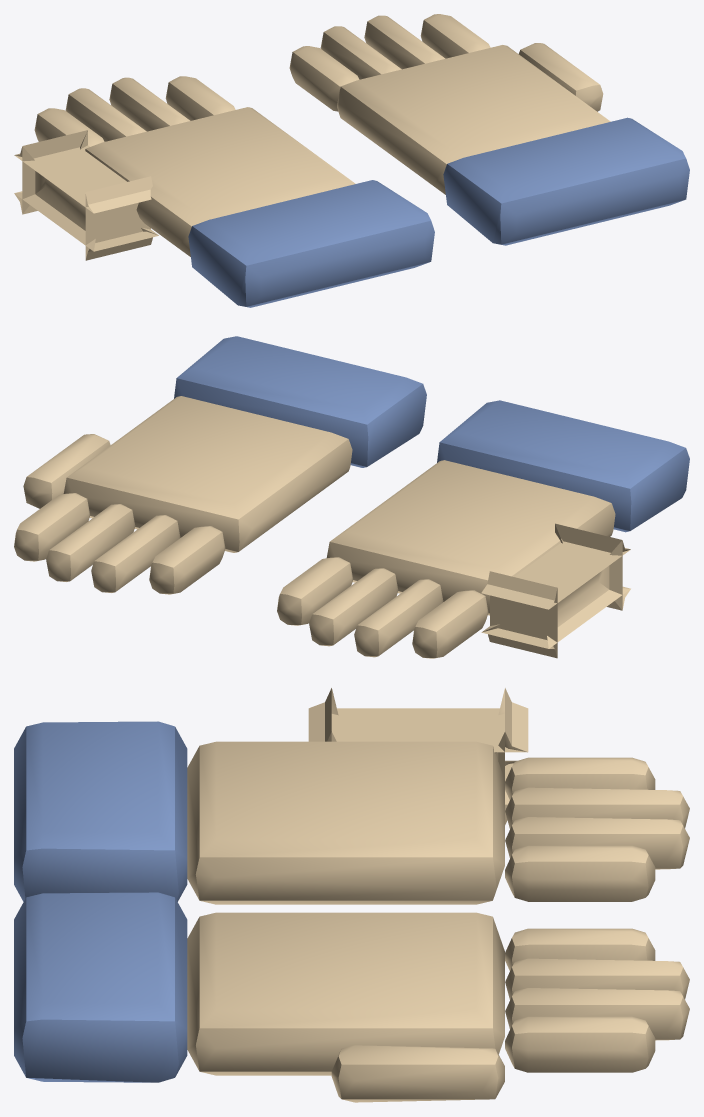
The model's file is SER-EPI-003_lod1.glb.
The picture shows the model from 3 angles, top to bottom: view 1: azimuth 30°, elevation 25°; view 2: azimuth 150°, elevation 25°; view 3: azimuth 270°, elevation 25°; orthographic projection. The views are drawn at different scales.
Visible parts, largest first — view 1: SER-EPI-003_punho1, SER-EPI-003_punho-1, SER-EPI-003_palma1, SER-EPI-003_palma-1, SER-EPI-003_polegar-1, SER-EPI-003_dedo10, SER-EPI-003_dedo12, SER-EPI-003_dedo-12, SER-EPI-003_dedo-11, SER-EPI-003_dedo11, SER-EPI-003_polegar1, SER-EPI-003_dedo-13 (+2 smaller); view 2: SER-EPI-003_palma1, SER-EPI-003_palma-1, SER-EPI-003_punho1, SER-EPI-003_punho-1, SER-EPI-003_polegar-1, SER-EPI-003_dedo-12, SER-EPI-003_dedo12, SER-EPI-003_dedo11, SER-EPI-003_dedo-11, SER-EPI-003_dedo10, SER-EPI-003_dedo-10, SER-EPI-003_dedo13 (+2 smaller); view 3: SER-EPI-003_palma-1, SER-EPI-003_palma1, SER-EPI-003_punho1, SER-EPI-003_punho-1, SER-EPI-003_polegar1, SER-EPI-003_polegar-1, SER-EPI-003_dedo-13, SER-EPI-003_dedo13, SER-EPI-003_dedo12, SER-EPI-003_dedo-12, SER-EPI-003_dedo11, SER-EPI-003_dedo-11 (+2 smaller).
Part boxes in pixels (box(x1,y1,x2,y2)): SER-EPI-003_punho1: box(443, 117, 689, 245); SER-EPI-003_punho-1: box(188, 180, 434, 307); SER-EPI-003_palma1: box(337, 45, 610, 194); SER-EPI-003_palma-1: box(85, 107, 355, 256); SER-EPI-003_polegar-1: box(14, 130, 158, 260); SER-EPI-003_dedo10: box(289, 46, 359, 111); SER-EPI-003_dedo12: box(364, 15, 445, 69); SER-EPI-003_dedo-12: box(109, 77, 190, 131); SER-EPI-003_dedo-11: box(65, 88, 146, 141); SER-EPI-003_dedo11: box(320, 26, 401, 79); SER-EPI-003_polegar1: box(519, 43, 603, 111); SER-EPI-003_dedo-13: box(165, 76, 235, 120); SER-EPI-003_palma1: box(63, 396, 352, 552); SER-EPI-003_palma-1: box(326, 460, 615, 615); SER-EPI-003_punho1: box(174, 336, 426, 467); SER-EPI-003_punho-1: box(437, 400, 689, 532); SER-EPI-003_polegar-1: box(481, 523, 630, 658); SER-EPI-003_dedo-12: box(309, 568, 398, 646); SER-EPI-003_dedo12: box(46, 504, 135, 581); SER-EPI-003_dedo11: box(91, 515, 180, 592); SER-EPI-003_dedo-11: box(354, 579, 443, 657); SER-EPI-003_dedo10: box(149, 526, 225, 594); SER-EPI-003_dedo-10: box(412, 590, 488, 658); SER-EPI-003_dedo13: box(14, 493, 90, 561); SER-EPI-003_palma-1: box(187, 741, 504, 904); SER-EPI-003_palma1: box(187, 912, 504, 1075); SER-EPI-003_punho1: box(14, 892, 187, 1082); SER-EPI-003_punho-1: box(14, 721, 187, 901); SER-EPI-003_polegar1: box(331, 1045, 504, 1102); SER-EPI-003_polegar-1: box(308, 688, 528, 824); SER-EPI-003_dedo-13: box(505, 845, 655, 901); SER-EPI-003_dedo13: box(505, 1016, 655, 1072); SER-EPI-003_dedo12: box(505, 988, 689, 1040); SER-EPI-003_dedo-12: box(505, 817, 689, 869); SER-EPI-003_dedo11: box(505, 958, 689, 999); SER-EPI-003_dedo-11: box(505, 787, 689, 828).
Bounding box in the file's own units: 0.288 × 0.038 × 0.234.
